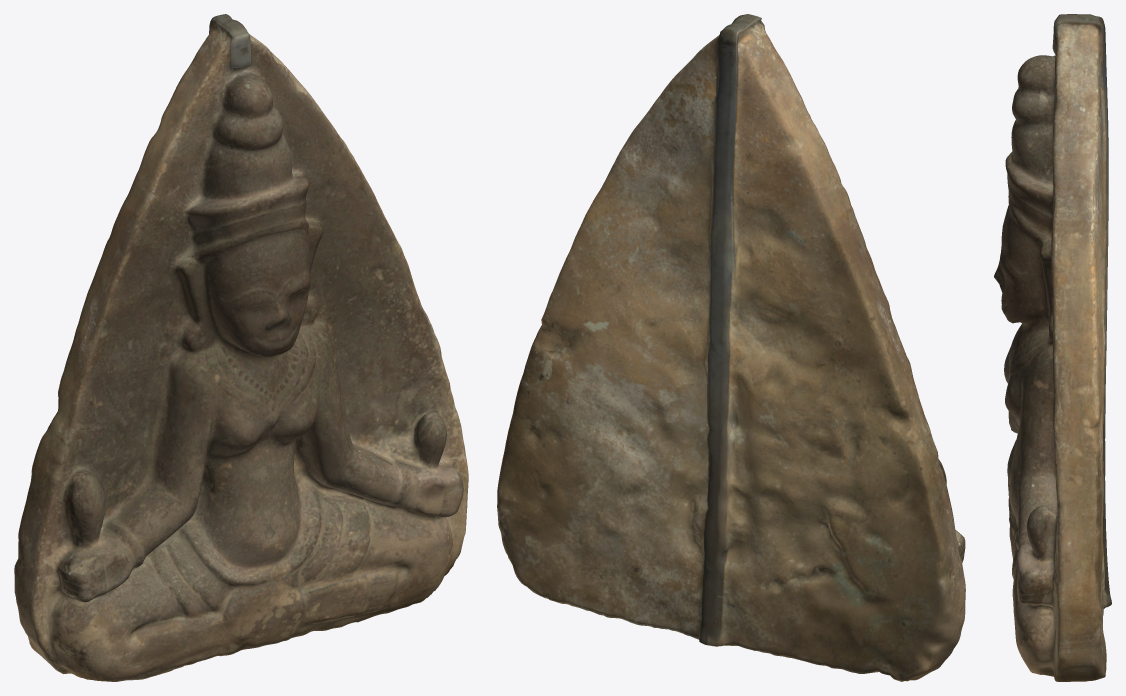
The model's file is 27_laskmi.glb.
The picture shows the model from 3 angles, left to right: view 1: azimuth 30°, elevation 25°; view 2: azimuth 150°, elevation 25°; view 3: azimuth 270°, elevation 25°; orthographic projection. The views are drawn at different scales.
Visible parts, largest first — view 1: REMESH; view 2: REMESH; view 3: REMESH.
Boxes of the visible parts, x1,y1,x2,y2 form: REMESH: [14, 14, 468, 681]; REMESH: [497, 14, 965, 681]; REMESH: [994, 14, 1111, 681].
Size of the model in its own units: 0.4382 by 0.5804 by 0.1059.
1 material, 1 textured.
